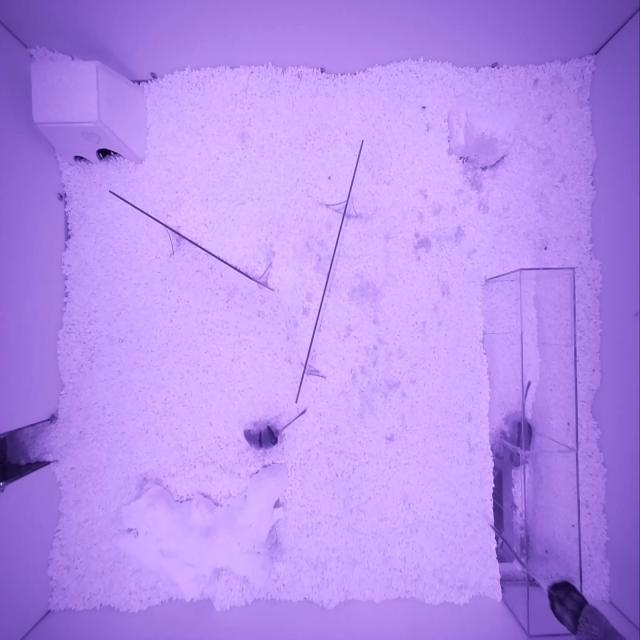adult_back: (544, 577, 627, 639)
pup_h_stripe: (243, 424, 280, 450)
pup_spotted: (491, 429, 511, 471)
pup_v_stripe: (508, 410, 533, 468)
